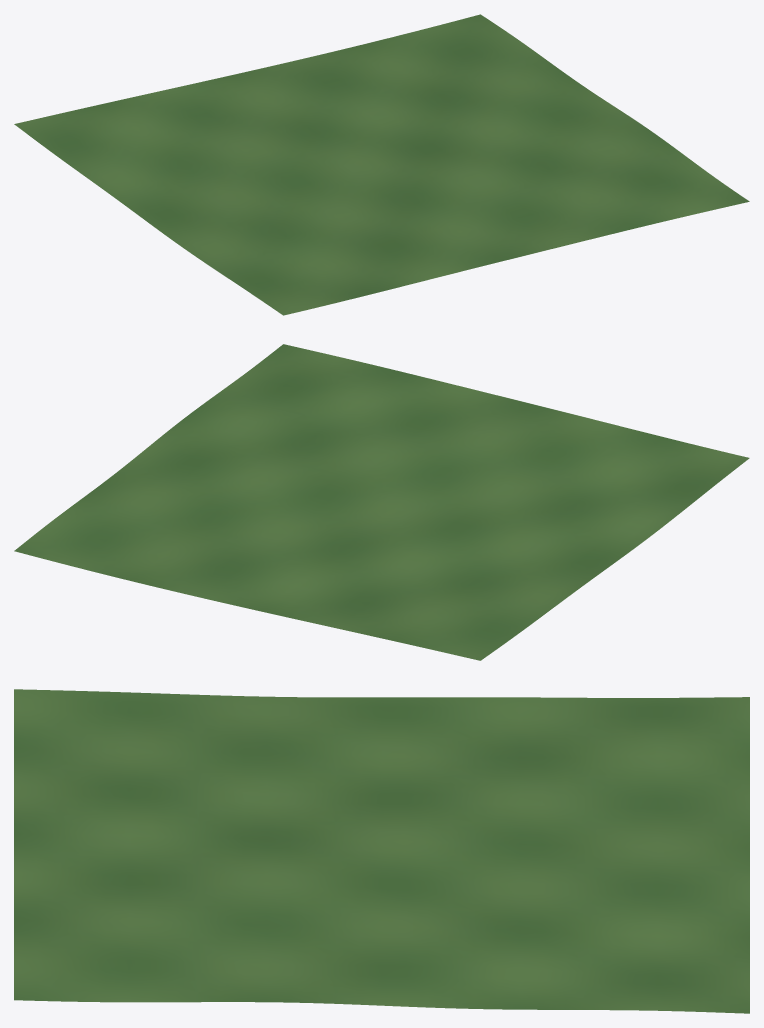
File: chunk_1_10.glb
3 renders of one model, top to bottom at view 1: azimuth 30°, elevation 25°; view 2: azimuth 150°, elevation 25°; view 3: azimuth 270°, elevation 25°, orthographic. The views are drawn at different scales.
Size of the model in its own units: 512 by 13.65 by 512.
